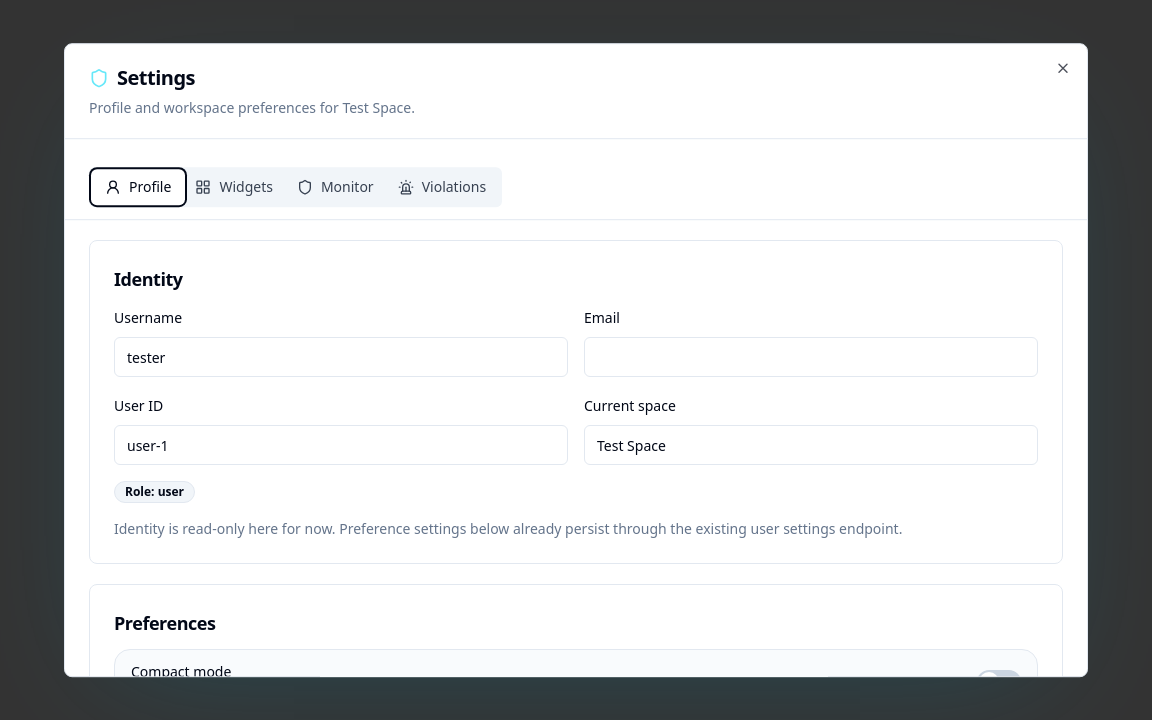
Test: Settings after credential retirement › preserves real security violations without representing failed requests as clean
Click the tab "Violations".
click(442, 187)  # box [386, 171, 498, 203]
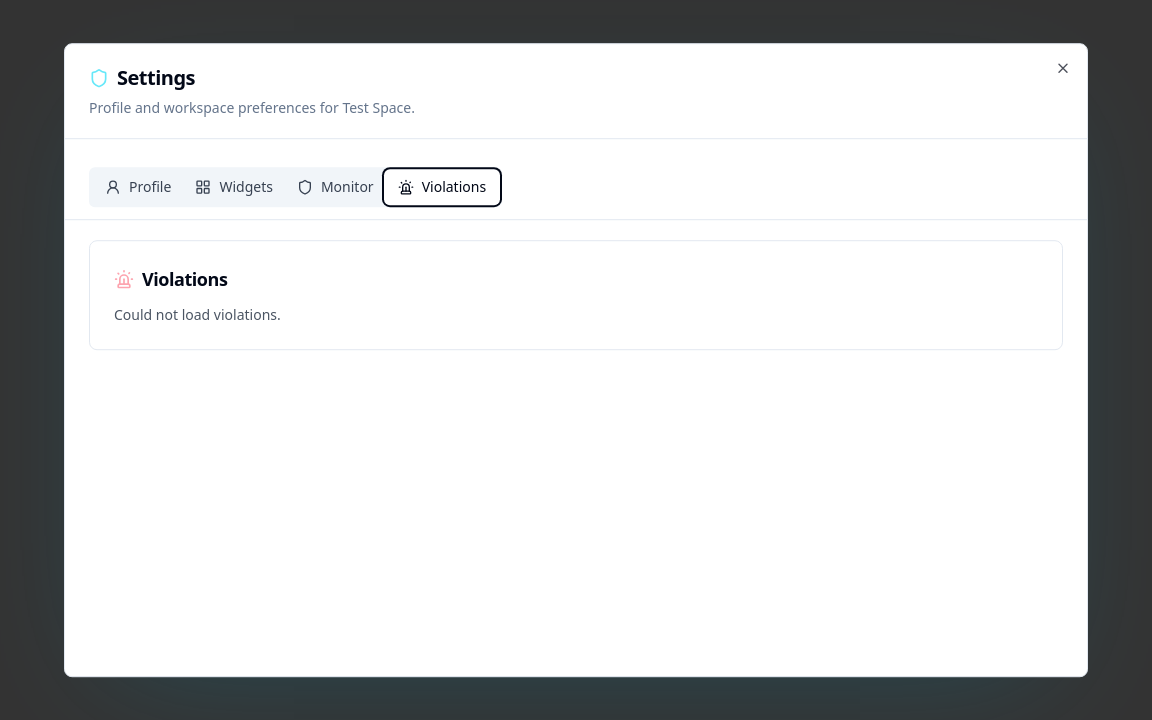
Expected: the text "Could not load violations." is shown, [114, 305, 281, 324]
